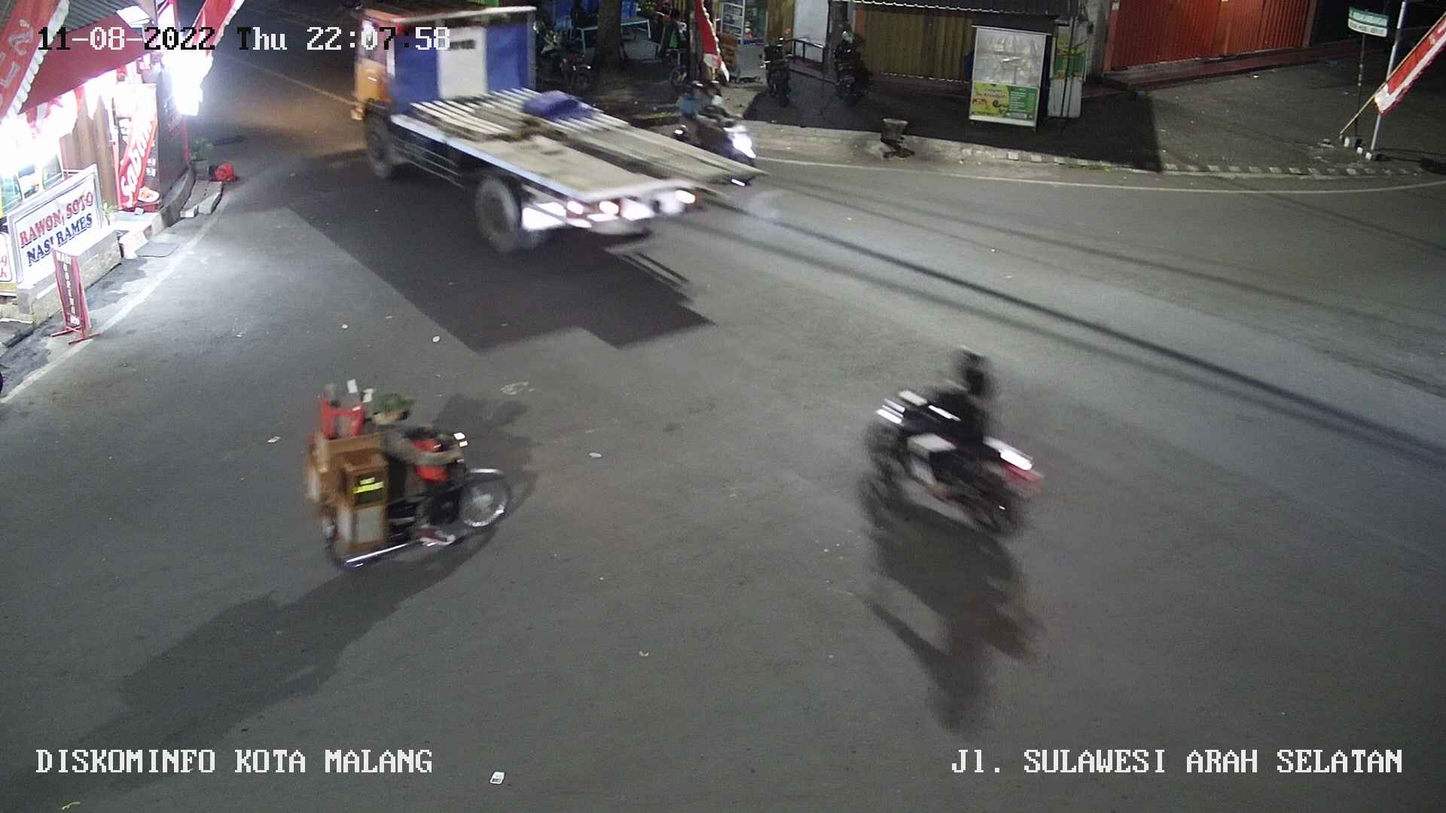without_helmet: (295, 368, 522, 598), (849, 319, 1055, 570)
